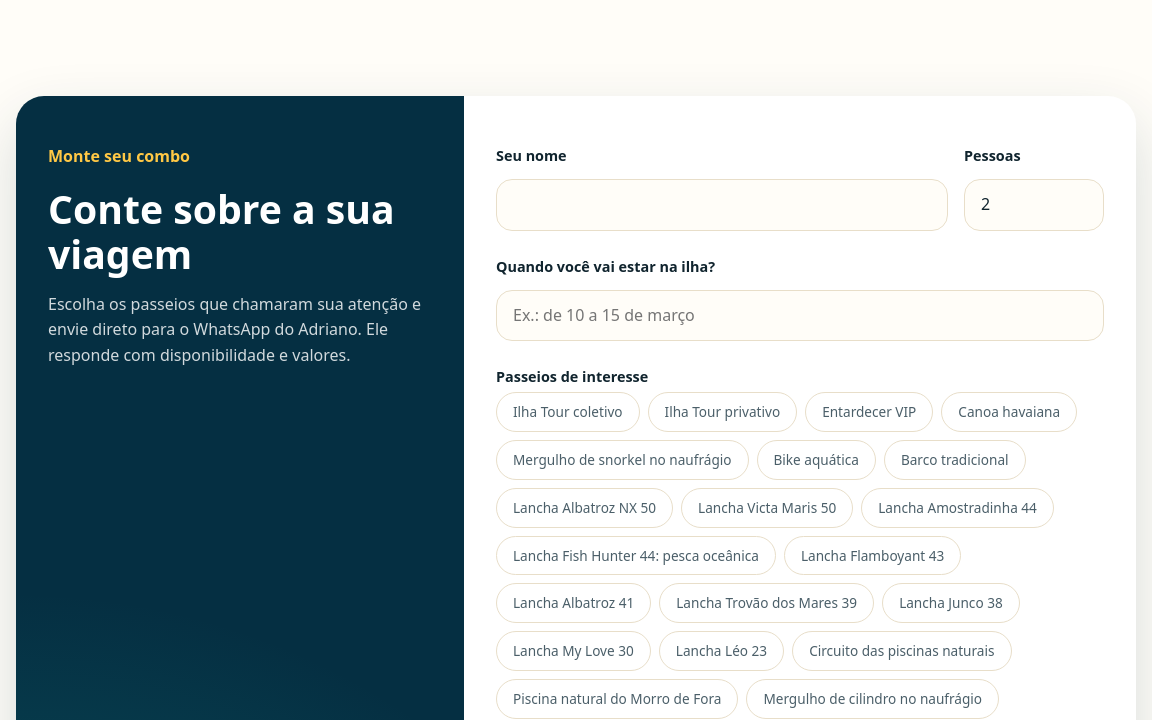
Test: ContactForm › toggles tour chips on and off
This screenshot has width=1152, height=720.
Click the button "Mergulho de snorkel no naufrágio" at (622, 460), box [496,440,748,480]
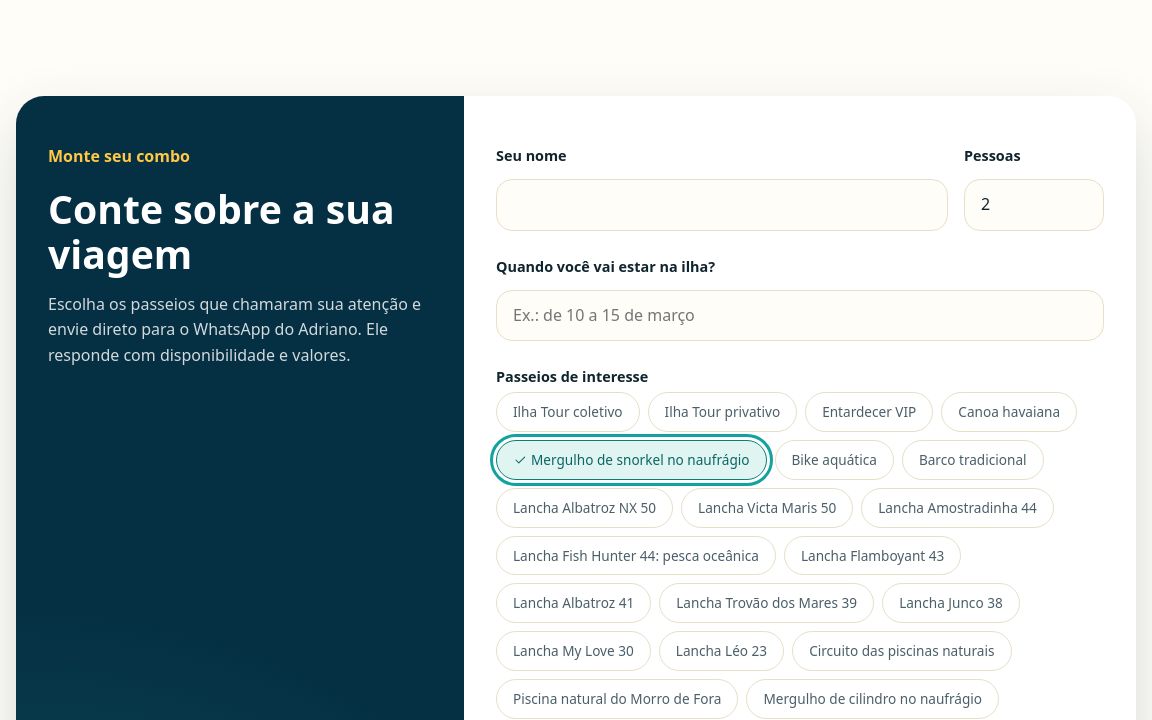
Result: the button "Mergulho de snorkel no naufrágio" is pressed
Click the button "Mergulho de snorkel no naufrágio" at (631, 460), box [496,440,766,480]
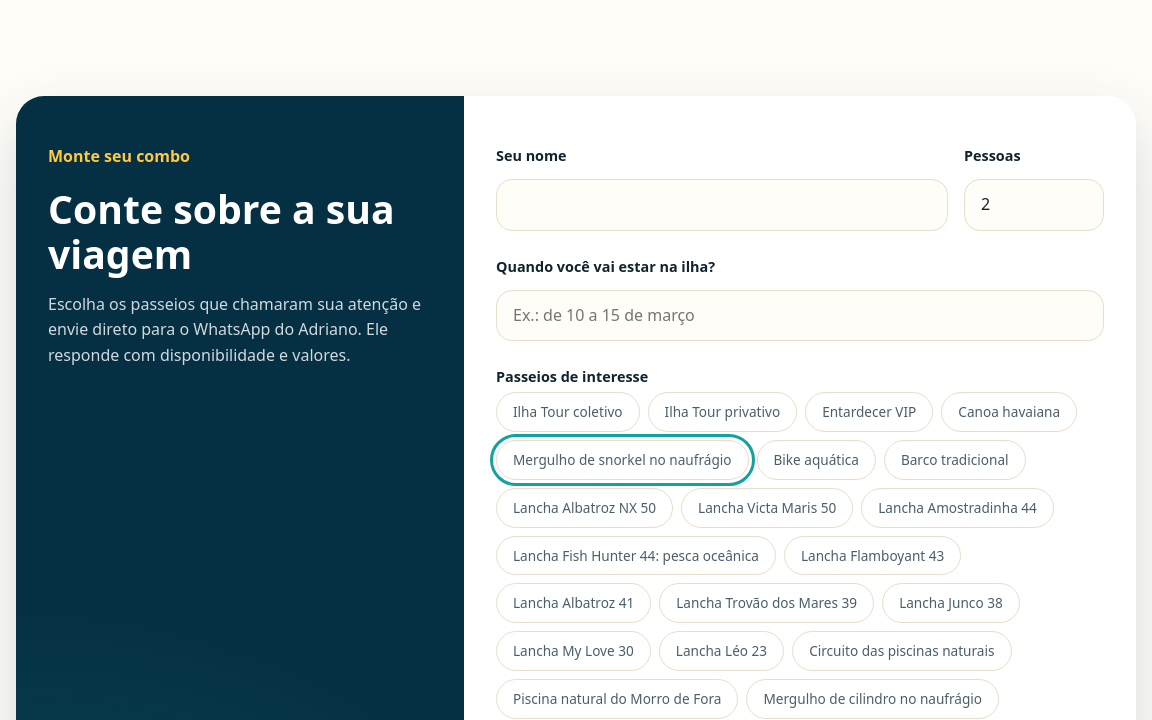
Result: the button "Mergulho de snorkel no naufrágio" is not pressed at [496,440,748,480]
